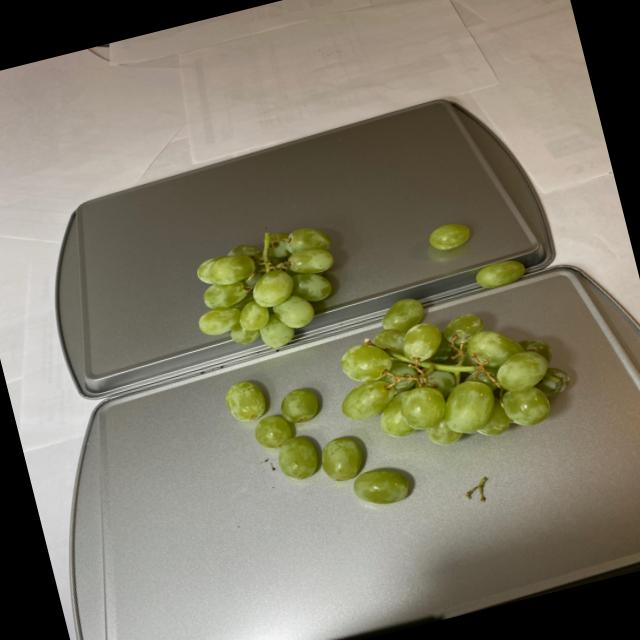grapes: (183, 172, 592, 537)
